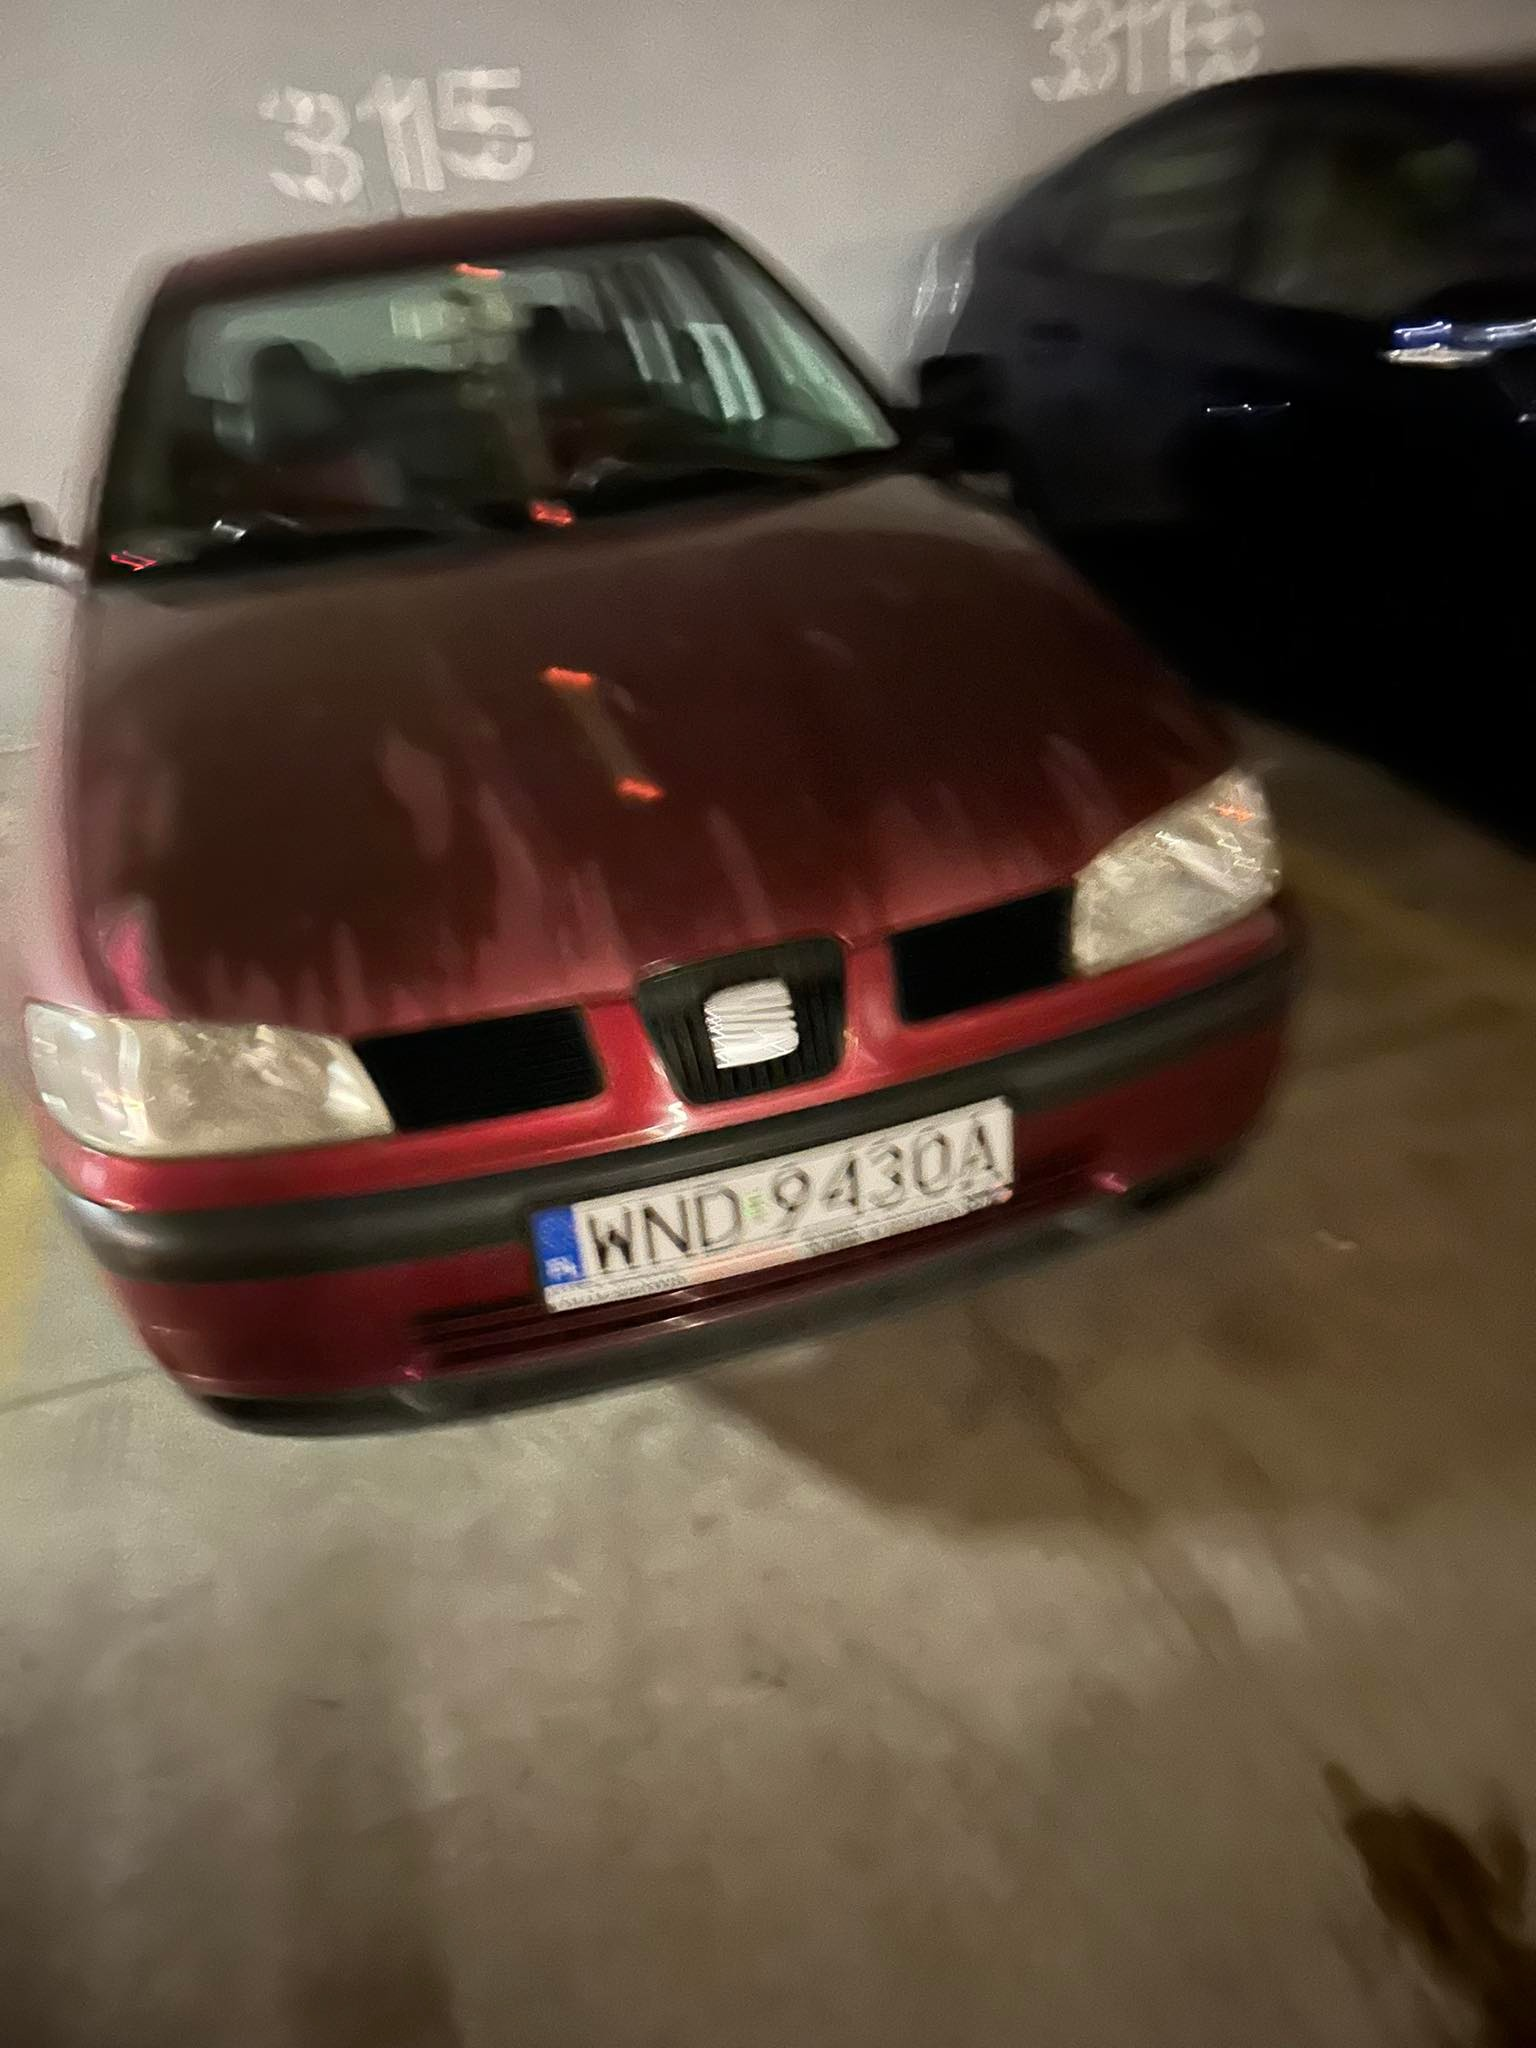number_plate: (528, 1085, 1028, 1334)
